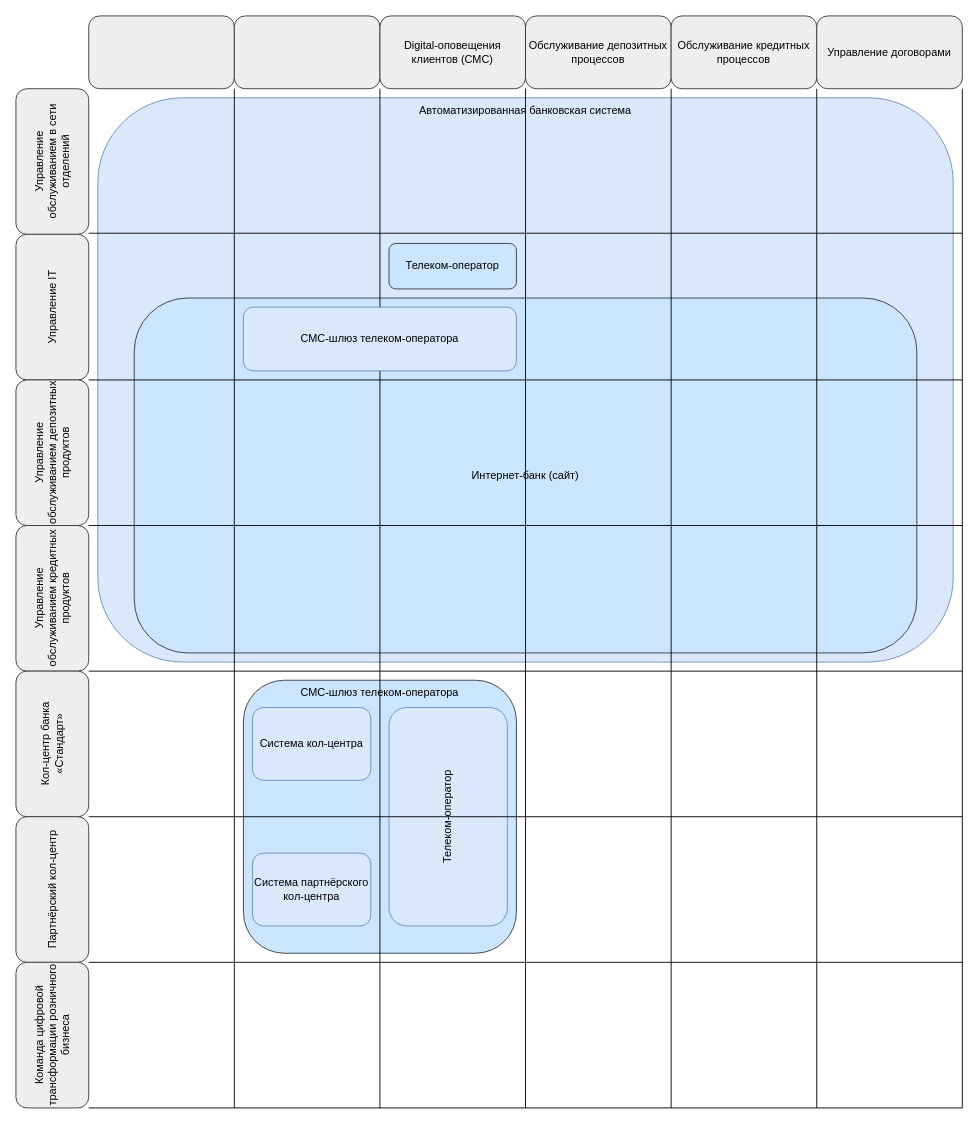
Image size: 979x1125. Some labels were removed from this diagram. Each missing label, with the centre of its shape:
Продажи в сети отделений (новые кредиты/депозиты): (x=161, y=52)
Продажи через кол-центр (новые кредиты/депозиты): (x=306, y=52)
